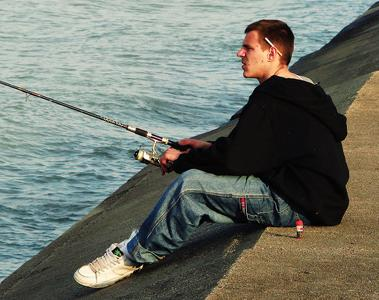person: (73, 18, 351, 291)
